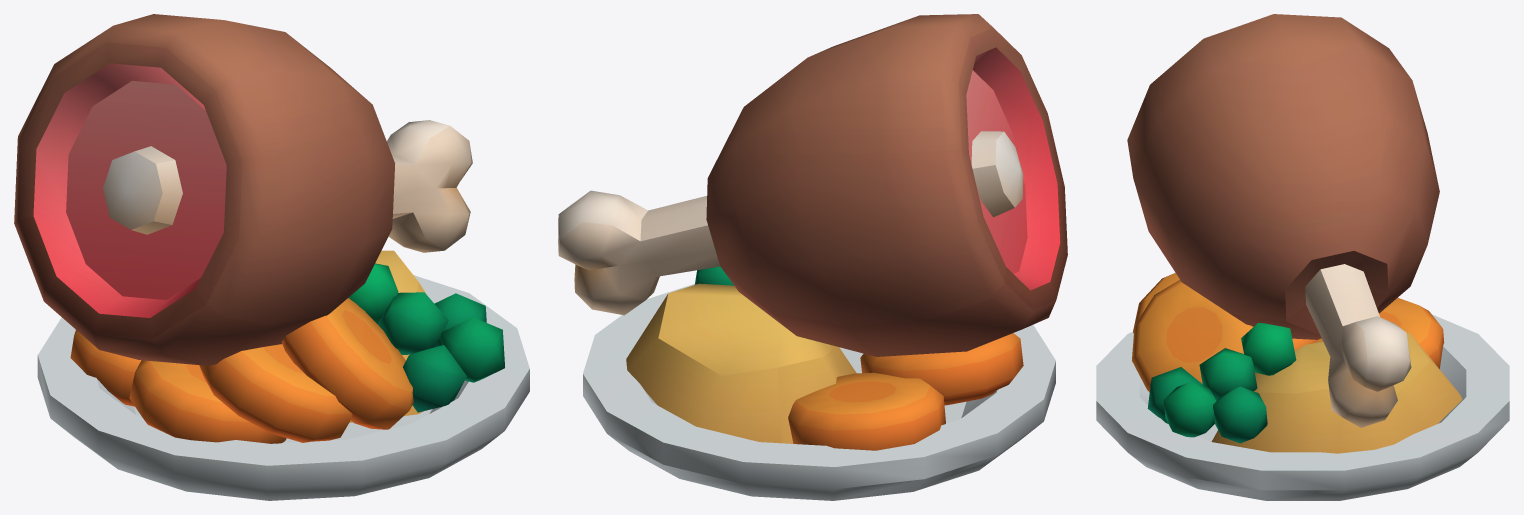
The model's file is food_dinner.glb.
3 views of the same model, side by side, from view 1: azimuth 30°, elevation 25°; view 2: azimuth 150°, elevation 25°; view 3: azimuth 270°, elevation 25° (orthographic). The views are drawn at different scales.
Parts seen in each view (by area): view 1: food_dinner; view 2: food_dinner; view 3: food_dinner.
Part boxes in pixels (x1,y1,x2,y2): food_dinner: (14, 14, 529, 500); food_dinner: (558, 14, 1067, 500); food_dinner: (1096, 14, 1509, 500).
Size of the model in its own units: 1.04 by 0.9078 by 0.95.
Materials: 1 (1 with a texture image).
